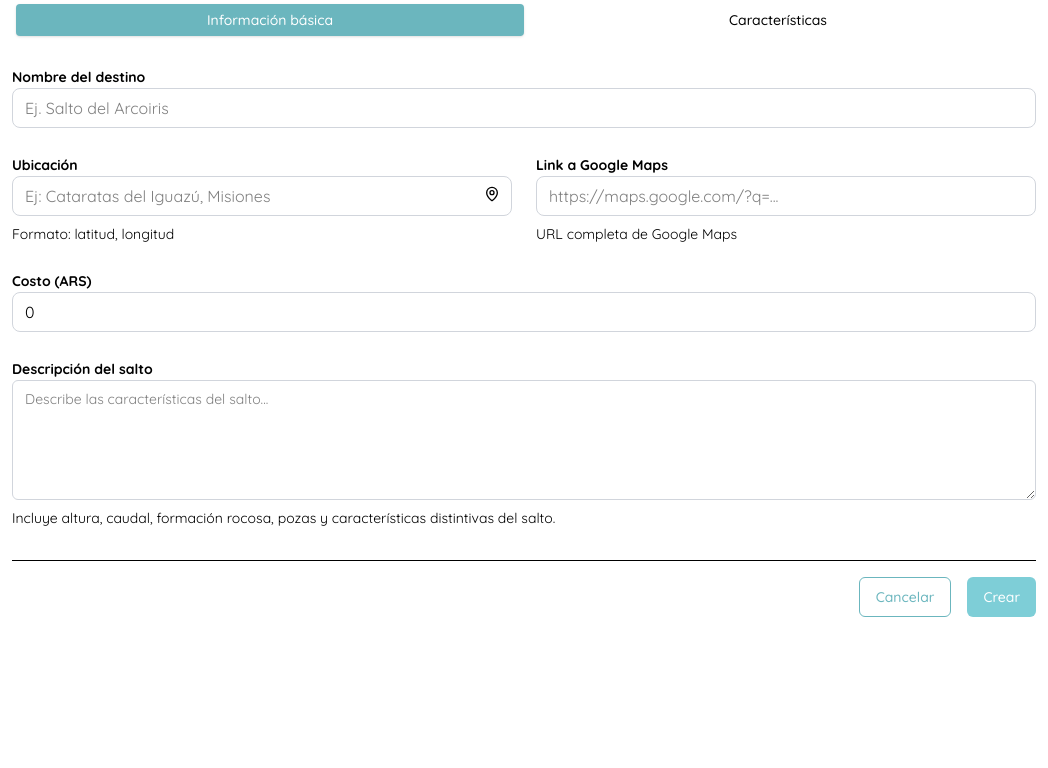
Test: SaltoForm › Validación de formulario › valida costo de entrada no negativo
The image size is (1048, 768).
Type "-100" into the number field labelled "Costo (ARS)" at (524, 312), box [12,292,1036,332]
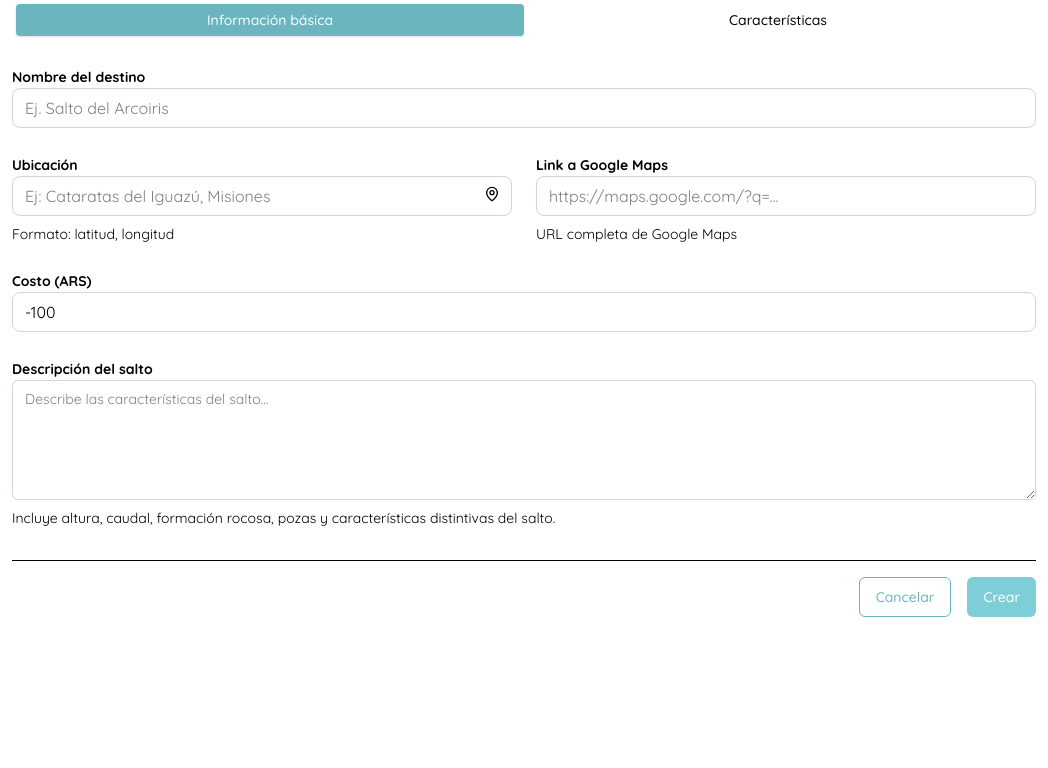
Click the button "Crear" at (1002, 597), box [967,577,1036,617]
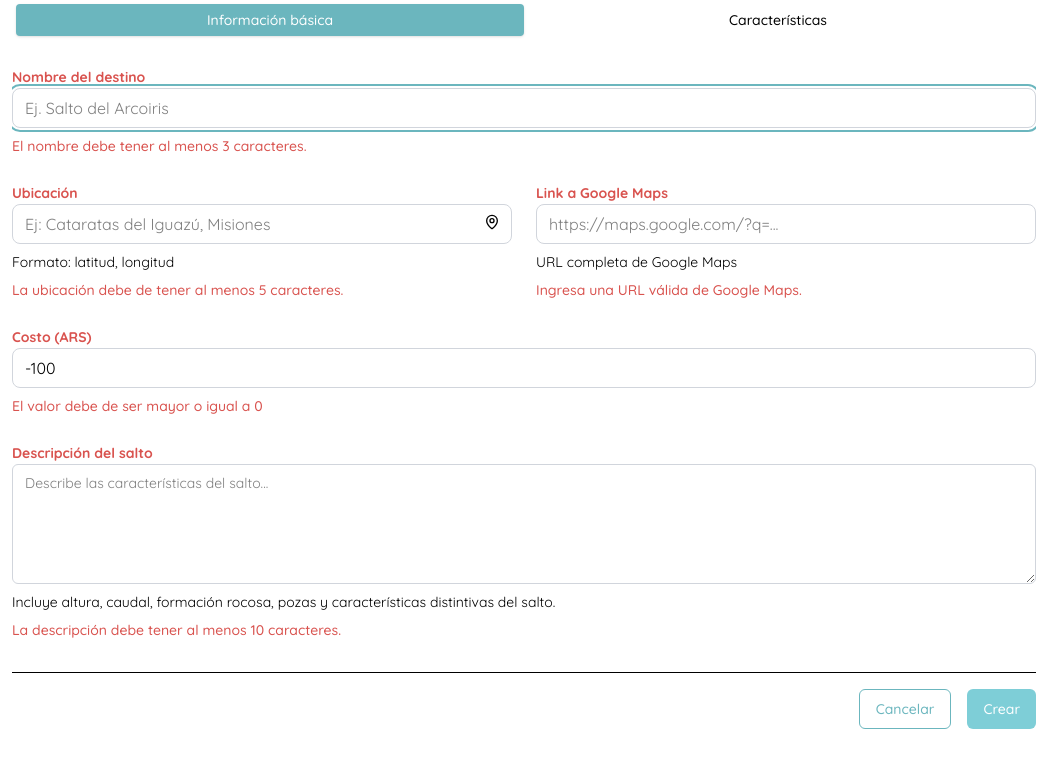
Check: the text "El valor debe de ser mayor o igual a 0" is shown, box [12,397,263,415]
